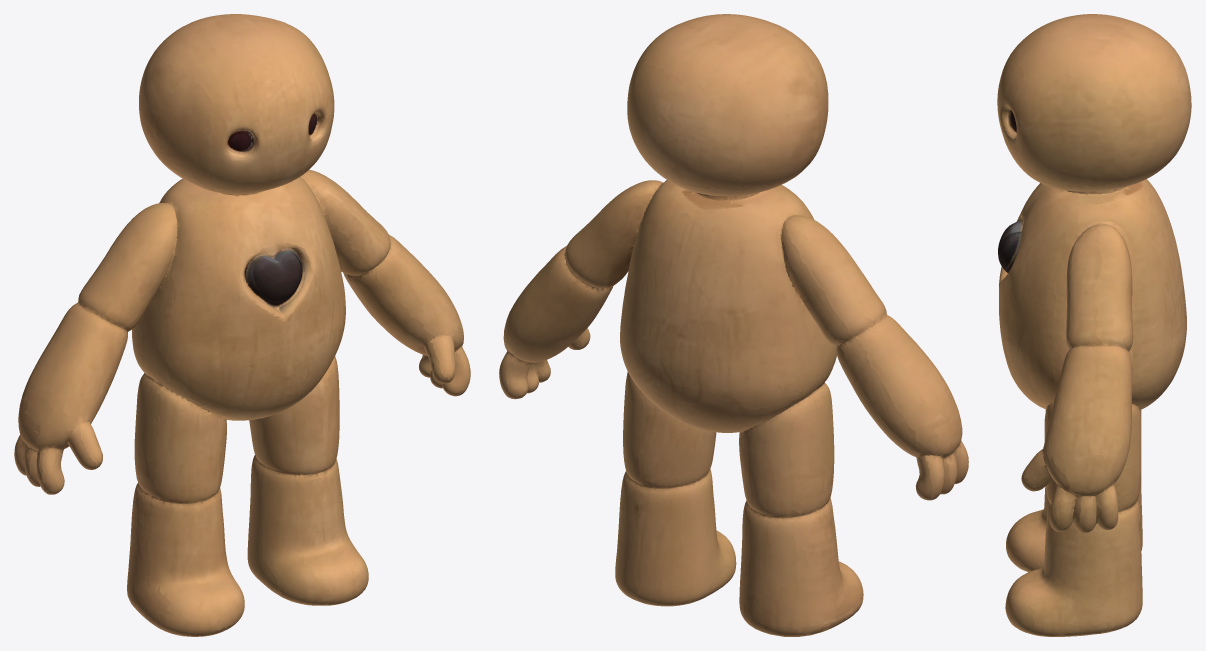
Rendered from hero_wood.glb.
3 views of the same model, side by side, from view 1: azimuth 30°, elevation 25°; view 2: azimuth 150°, elevation 25°; view 3: azimuth 270°, elevation 25° (orthographic). The views are drawn at different scales.
Visible parts, largest first — view 1: geometry_0; view 2: geometry_0; view 3: geometry_0.
Boxes of the visible parts, x1=… form: geometry_0: x1=14, y1=14, x2=470, y2=636; geometry_0: x1=499, y1=14, x2=968, y2=636; geometry_0: x1=997, y1=14, x2=1191, y2=636.
Bounding box in the file's own units: 0.1607 × 0.2 × 0.0626.
Materials: 1 (1 with a texture image).
